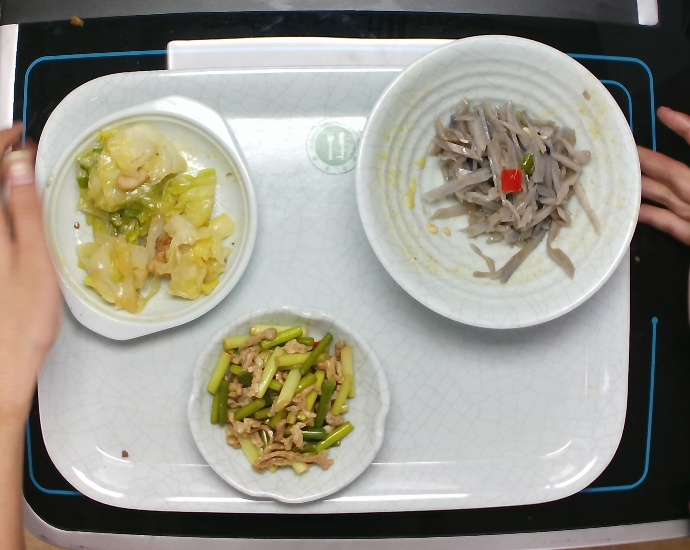JYsf-Ao_Yuan_Wan: (185, 305, 394, 506)
JYsf-Shuang_Er_Pan: (34, 94, 261, 344)
JYsf-Xiao_Tang_Wan: (355, 34, 643, 330)
